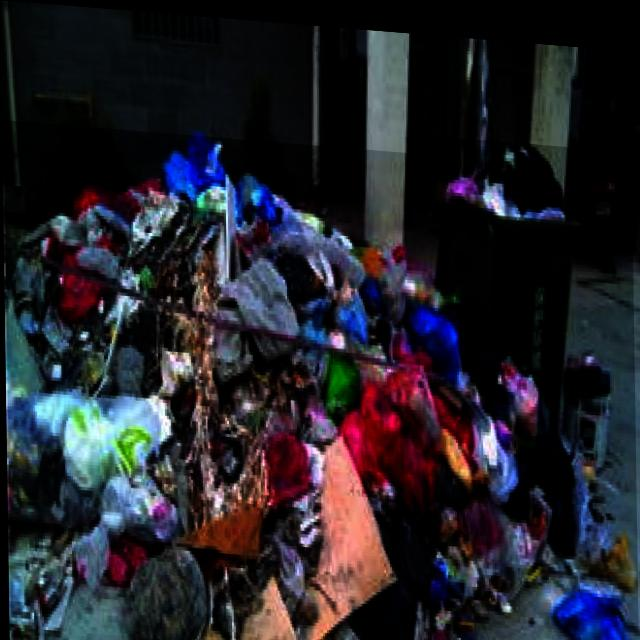garbage: (3, 120, 638, 640)
overflow: (433, 129, 586, 420)
